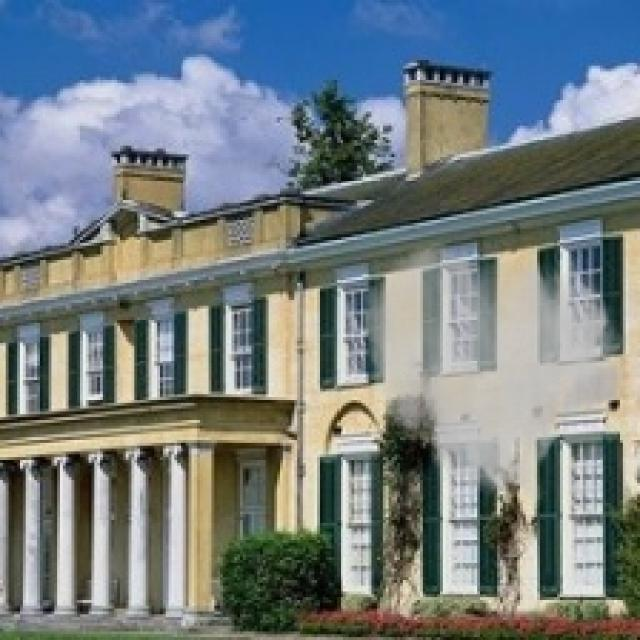smoke: (357, 240, 629, 506)
